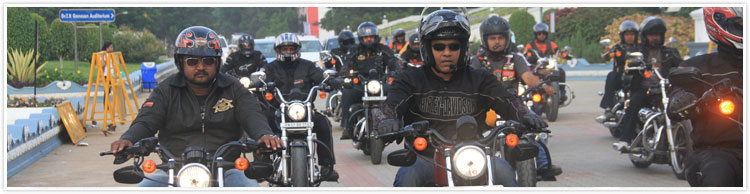helmet: (159, 17, 247, 105), (419, 11, 484, 70), (263, 29, 313, 70), (348, 17, 380, 47)
